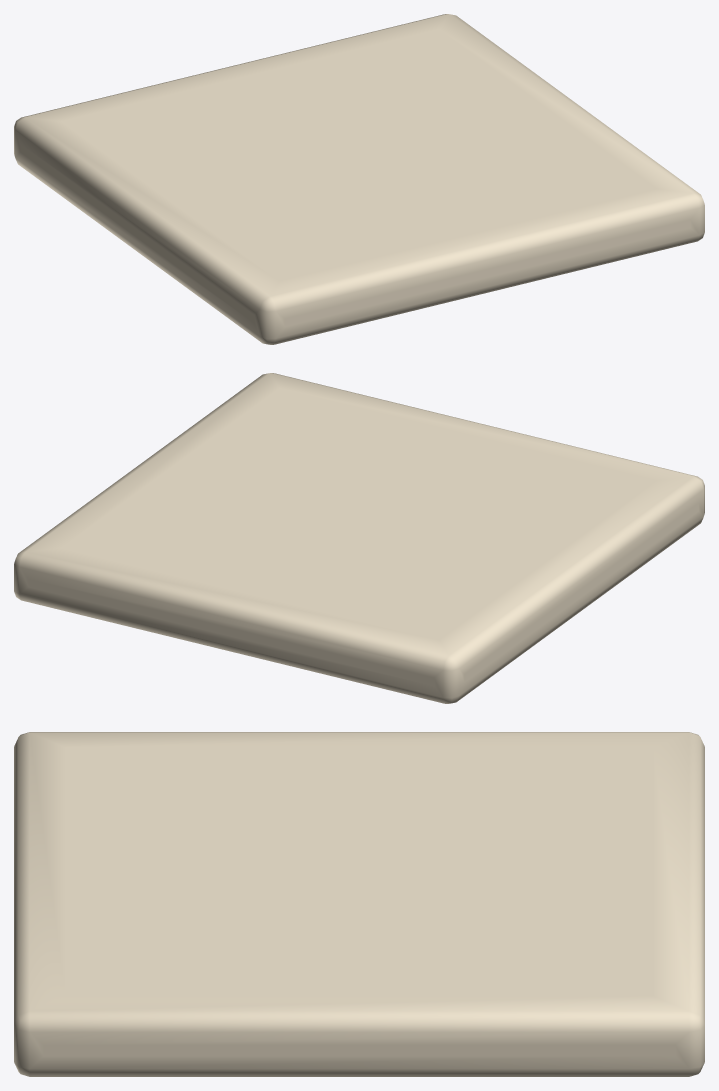
File: plot_pad.glb
3 renders of one model, top to bottom at view 1: azimuth 30°, elevation 25°; view 2: azimuth 150°, elevation 25°; view 3: azimuth 270°, elevation 25°, orthographic. The views are drawn at different scales.
Visible parts, largest first — view 1: Pad_Body; view 2: Pad_Body; view 3: Pad_Body.
Part boxes in pixels (box(x1,y1,x2,y2)): Pad_Body: box(14, 14, 704, 344); Pad_Body: box(14, 373, 704, 703); Pad_Body: box(14, 732, 704, 1076).
Bounding box in the file's own units: 0.96 × 0.1 × 0.96.
